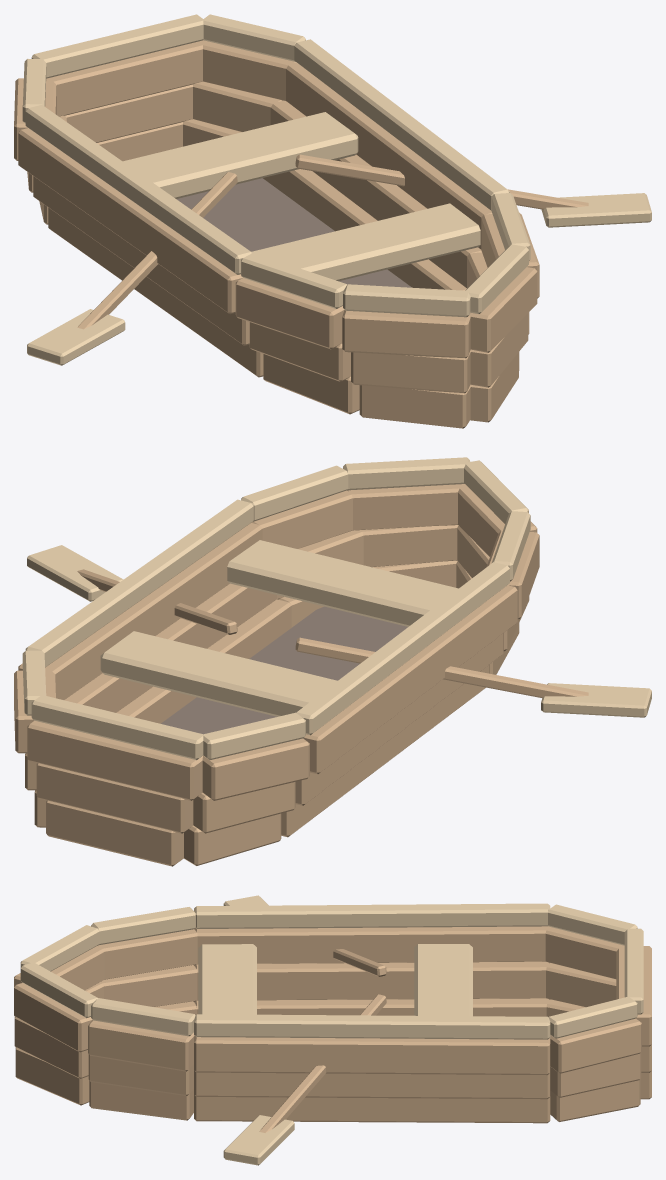
The model's file is boat.fbx.
The picture shows the model from 3 angles, top to bottom: view 1: azimuth 30°, elevation 25°; view 2: azimuth 150°, elevation 25°; view 3: azimuth 270°, elevation 25°; orthographic projection. The views are drawn at different scales.
Visible parts, largest first — view 1: boat_mesh; view 2: boat_mesh; view 3: boat_mesh.
Part boxes in pixels (x1=…): boat_mesh: x1=14, y1=14, x2=651, y2=428; boat_mesh: x1=14, y1=457, x2=651, y2=866; boat_mesh: x1=14, y1=895, x2=651, y2=1165.
Size of the model in its own units: 2.95 by 0.605 by 3.05.
